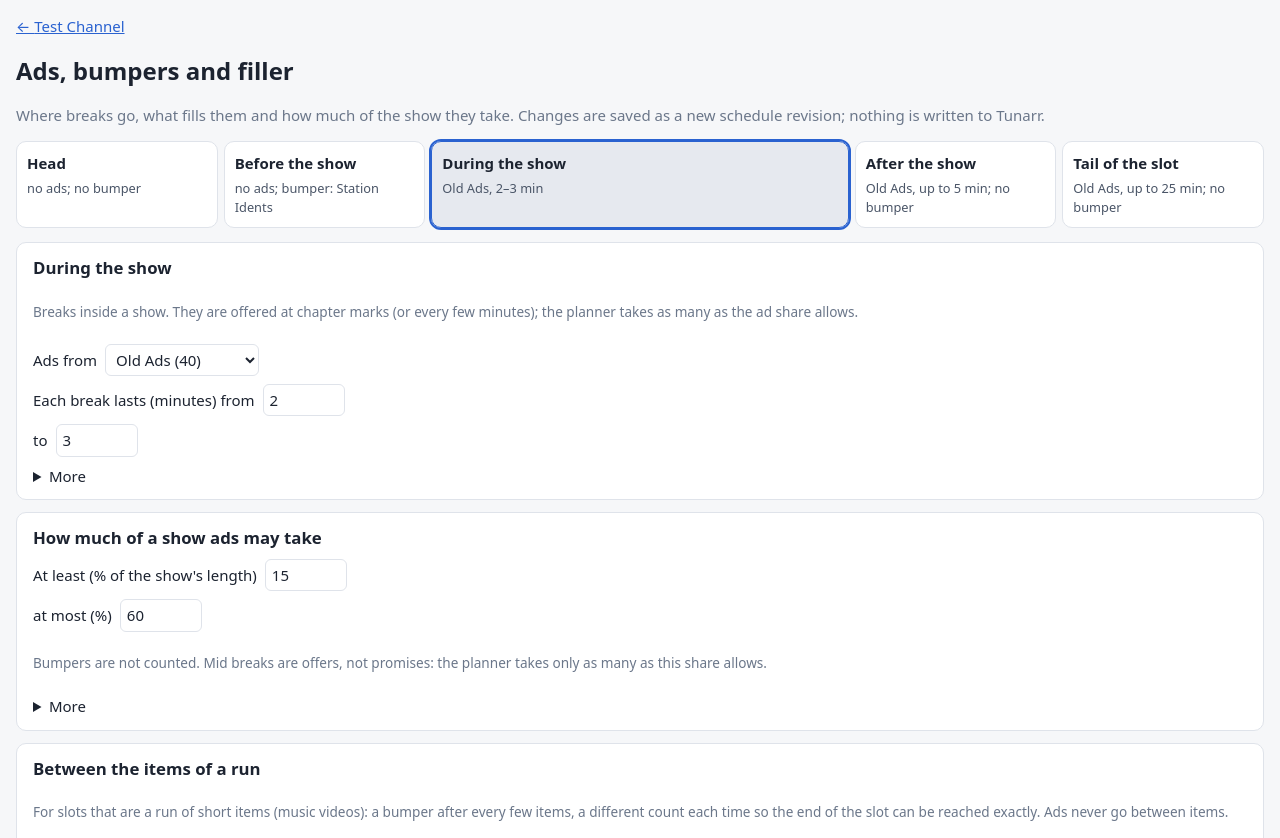
Test case: the ads page › edits a position: picking a list and a length changes the box and enables saving
The width and height of the screenshot is (1280, 838).
expect the element named "A block" is shown: met, box [16,141,1264,228]
Click the button "Head no ads; no bumper" at (117, 185), box [16,141,218,228]
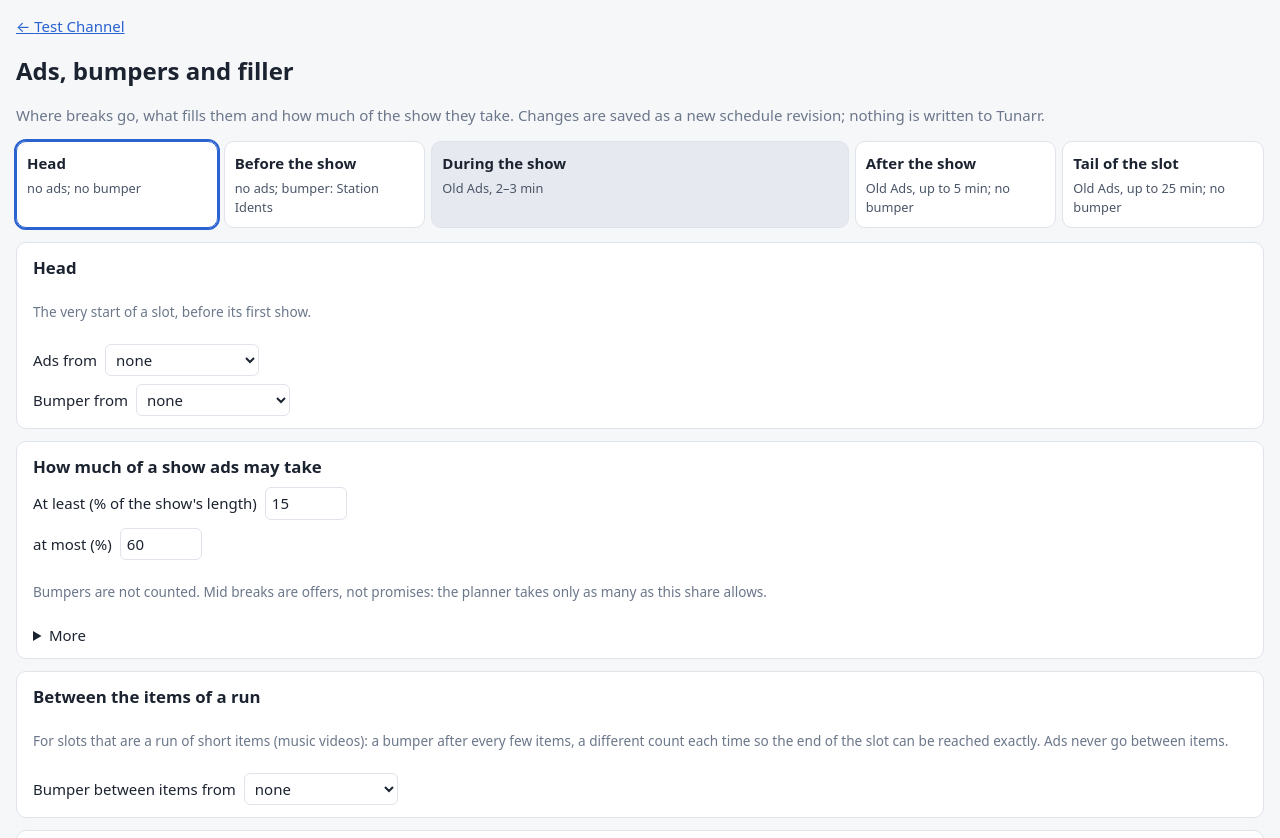
Select "Old Ads (40)" in the dropdown labelled "Ads from" at (182, 360), box [105,344,259,376]
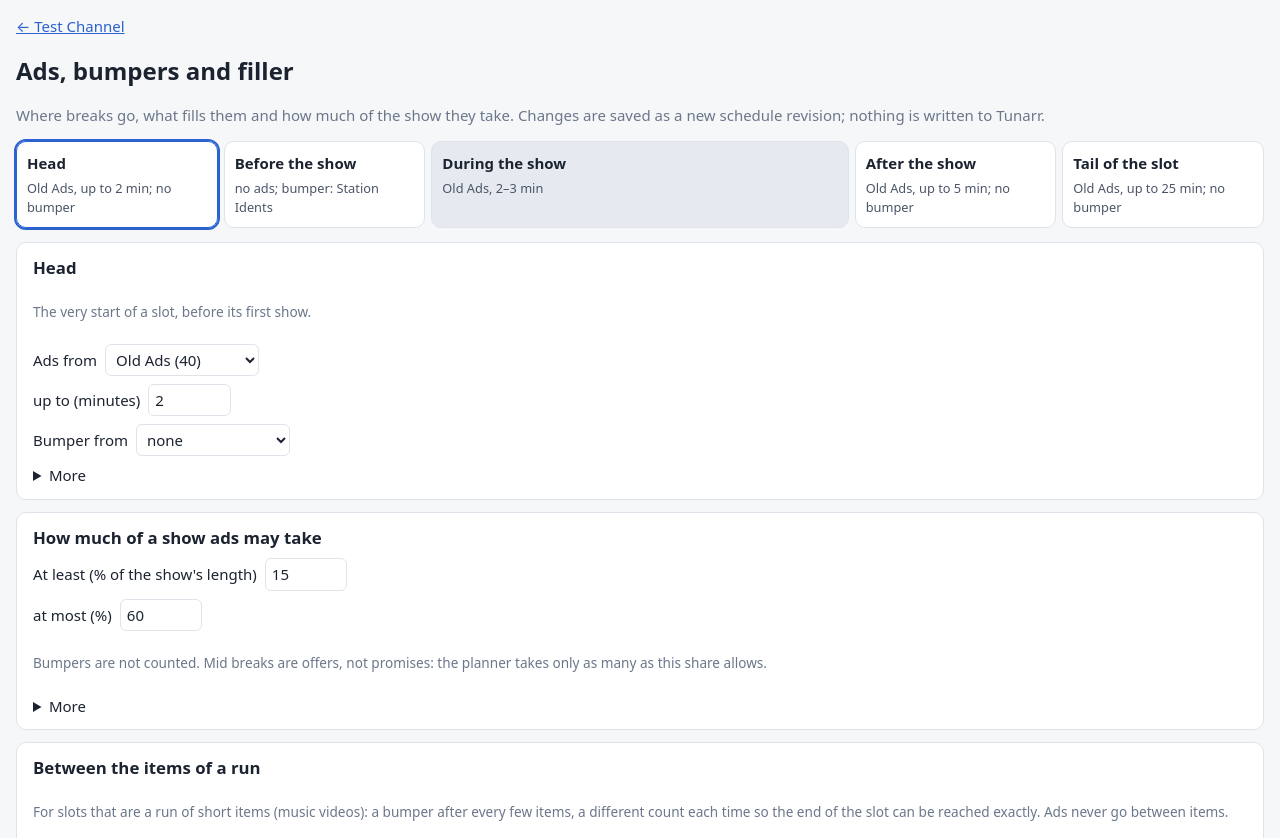
expect the button "Head Old Ads, up to 2 min; no bumper" is shown: met, box [16,141,218,228]
Replace the text in the number field labelled "up to (minutes)" with "1.5" at (190, 400), box [148,384,231,416]
(page scrolled)
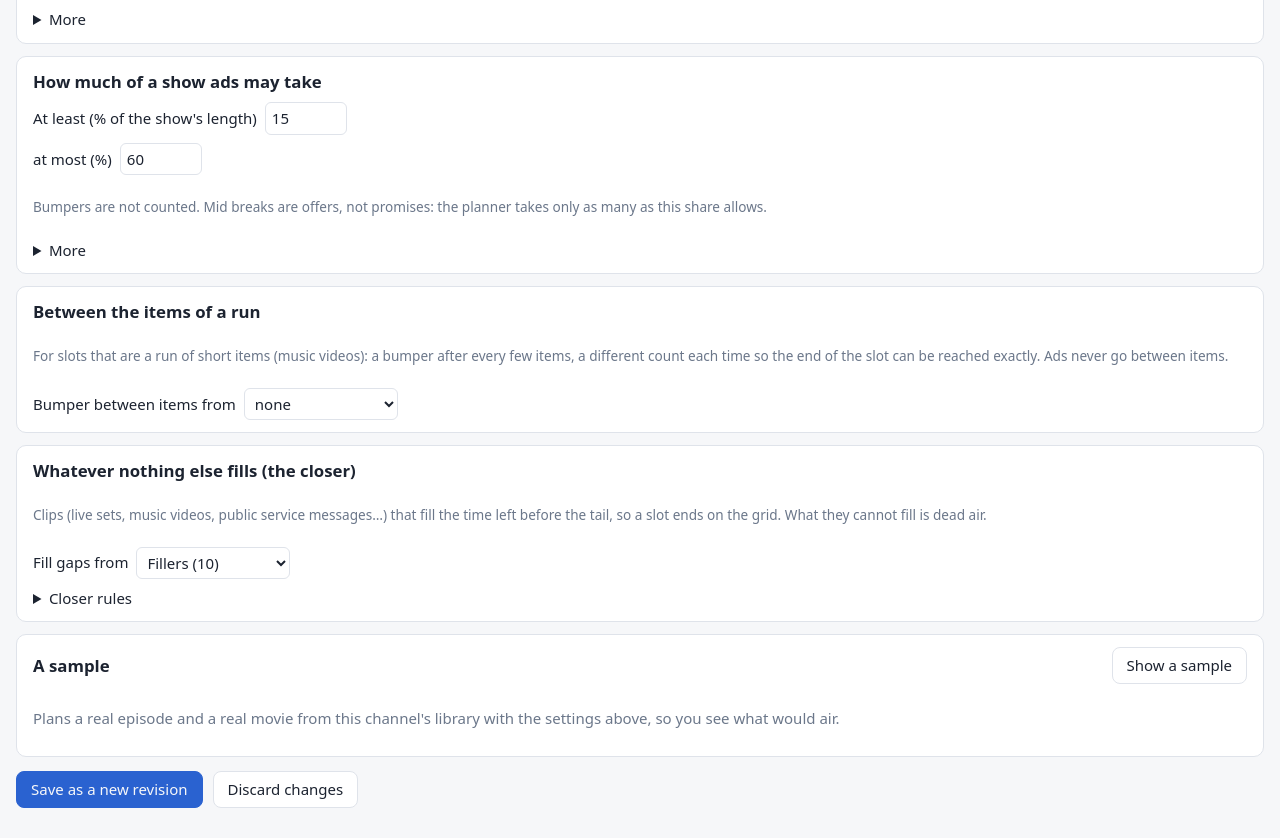
Click the button "Save as a new revision" at (109, 789), box [16,771,202,808]
(page scrolled)
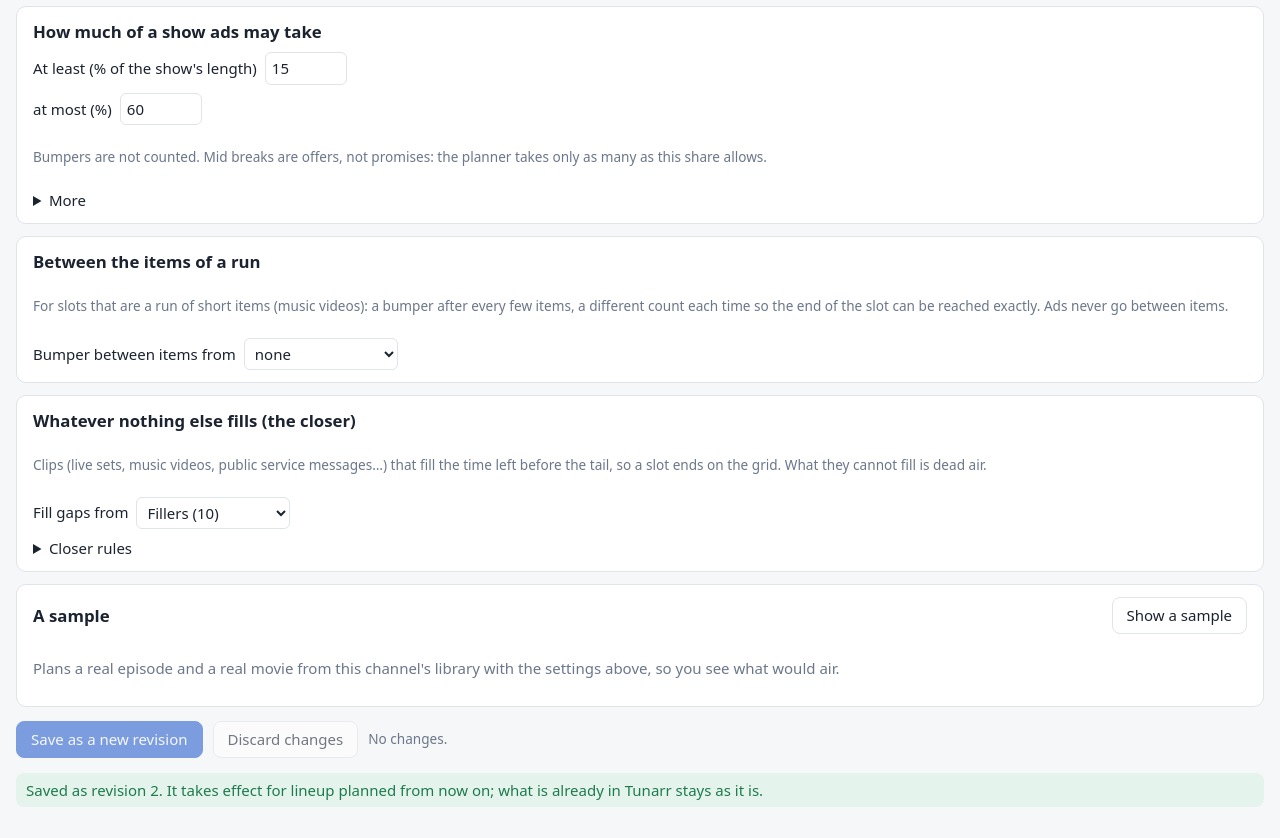
expect the text "Saved as revision 2" is shown: met, box [16,773,1264,807]
